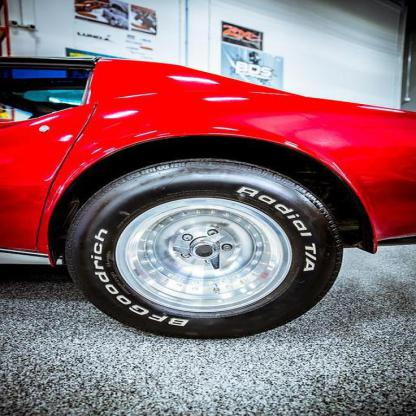Tire: (64, 158, 345, 339)
